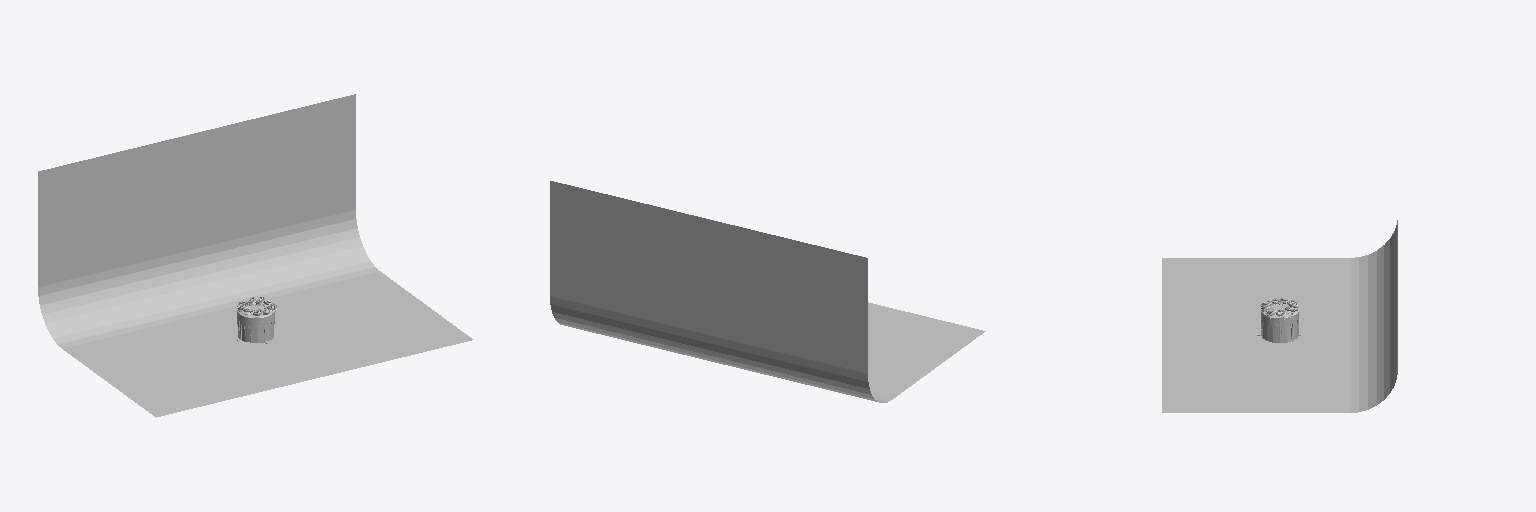
Rendered from uploads_files_1848504_cake.obj.
3 views of the same model, side by side, from view 1: azimuth 30°, elevation 25°; view 2: azimuth 150°, elevation 25°; view 3: azimuth 270°, elevation 25° (orthographic).
Visible parts, largest first — view 1: Plane.002; view 2: Plane.002; view 3: Plane.002.
Boxes of the visible parts, box(x1,y1,x2,y2) form: Plane.002: box(38, 94, 472, 417); Plane.002: box(550, 181, 985, 402); Plane.002: box(1162, 220, 1397, 412).
Size of the model in its own units: 58 by 27.87 by 37.3.